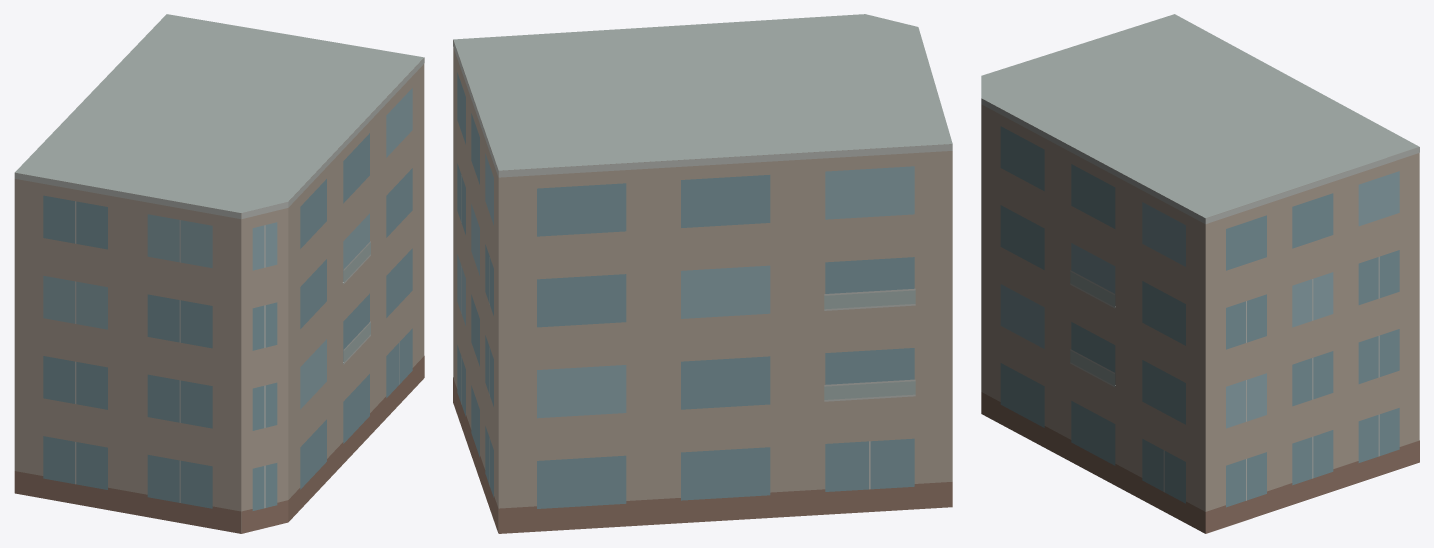
Rendered from survey-upis-32780486.glb.
3 views of the same model, side by side, from view 1: azimuth 30°, elevation 25°; view 2: azimuth 150°, elevation 25°; view 3: azimuth 270°, elevation 25° (orthographic). The views are drawn at different scales.
Parts seen in each view (by area): view 1: survey-upis-32780486.tmp; view 2: survey-upis-32780486.tmp; view 3: survey-upis-32780486.tmp.
Boxes of the visible parts, x1,y1,x2,y2 form: survey-upis-32780486.tmp: [14, 14, 424, 533]; survey-upis-32780486.tmp: [453, 14, 952, 533]; survey-upis-32780486.tmp: [981, 14, 1419, 533].
Size of the model in its own units: 17.78 by 12.8 by 16.13.
